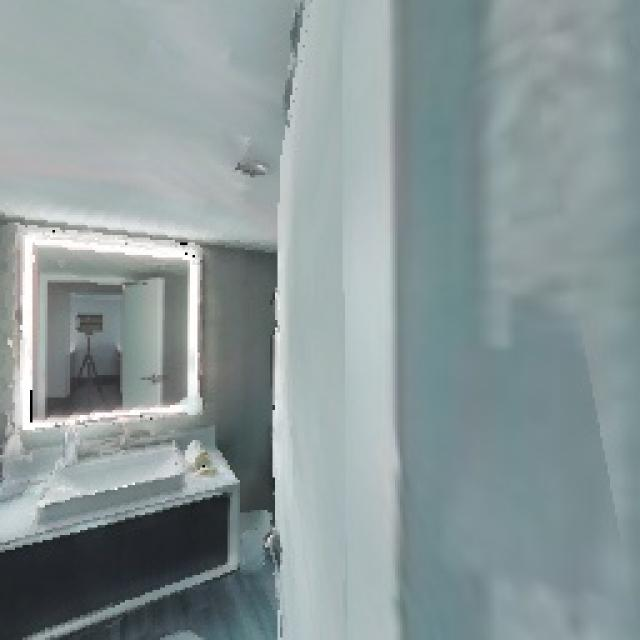sink: (42, 412, 201, 534)
